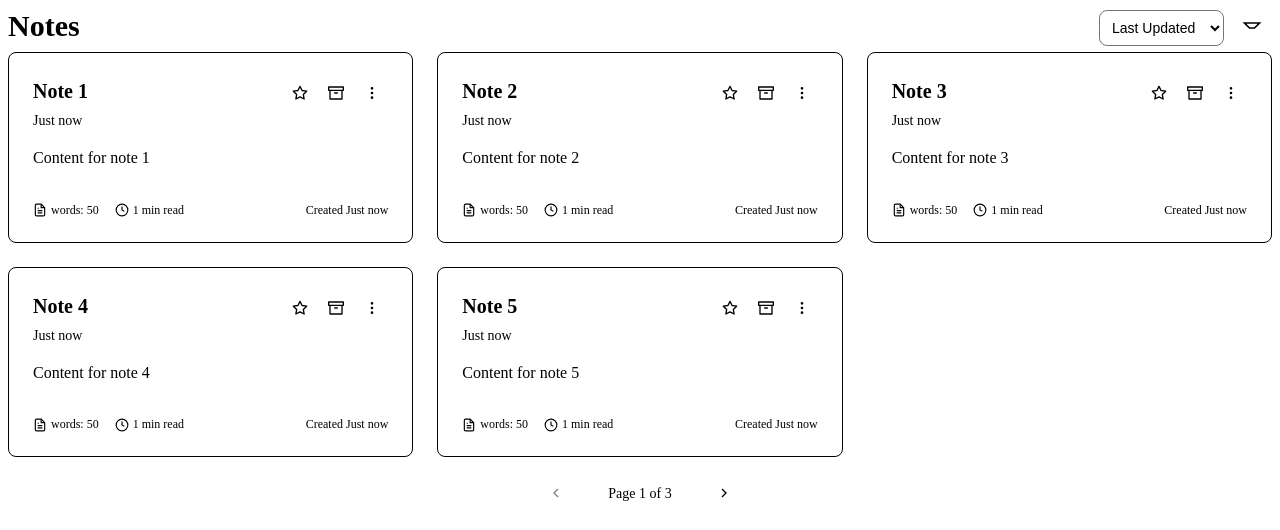
Test: NotesList Pagination › should navigate to last page correctly
Navigate to page 3 (last page)
Click the button named "Next page" at (724, 493), box [704, 473, 744, 513]
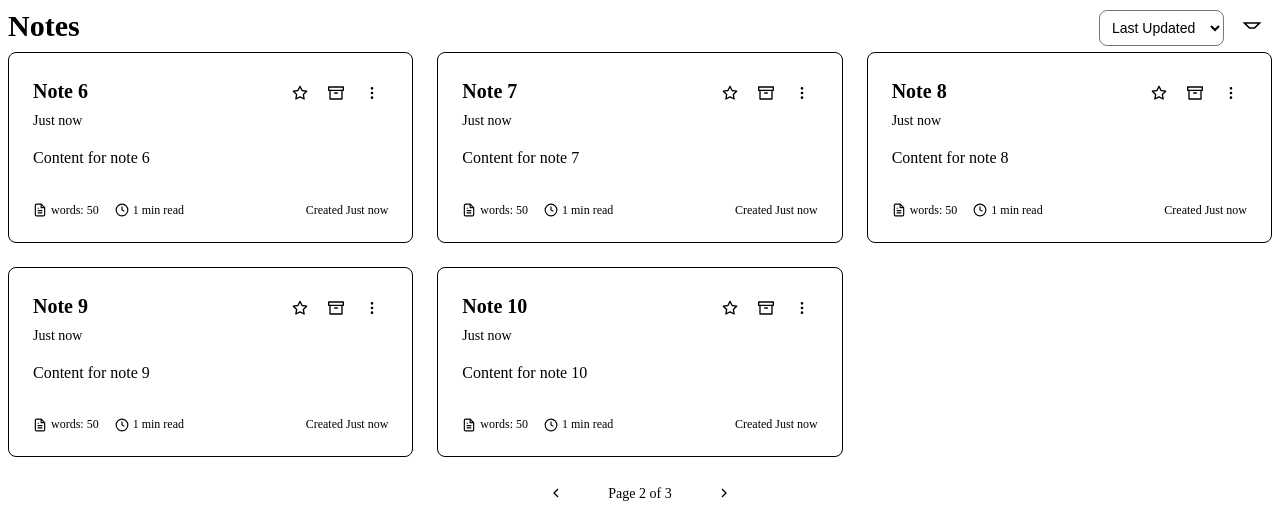
Click the button named "Next page" at (724, 493), box [704, 473, 744, 513]
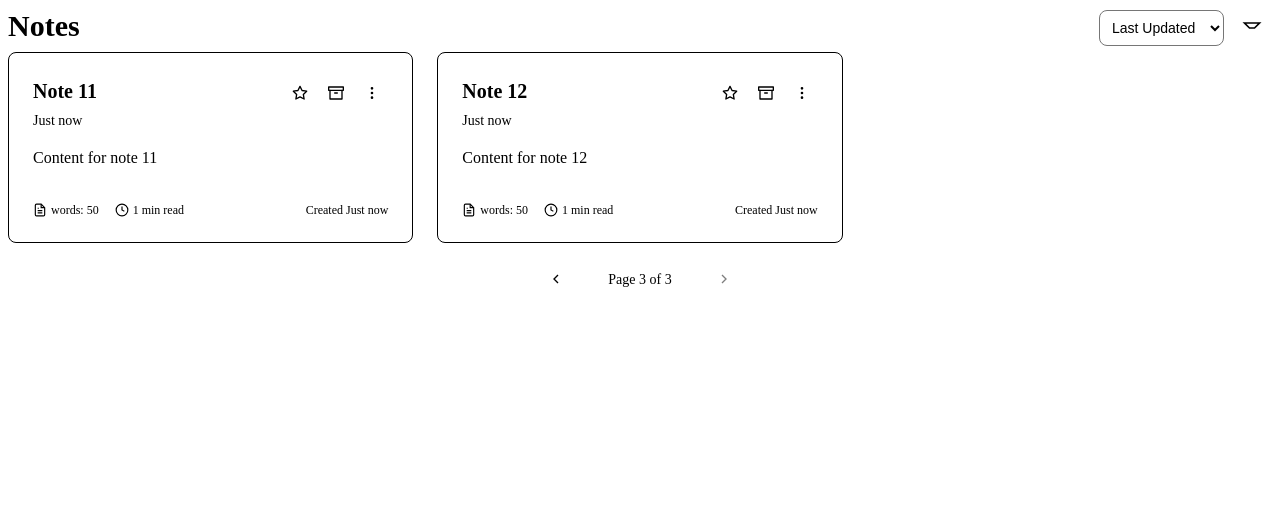
Expected: the text "Page 3 of 3" is shown, [608, 272, 672, 287]
Expected: the number of elements with class "note-item-wrapper" is 2, [8, 52, 413, 243]; [437, 52, 843, 243]
